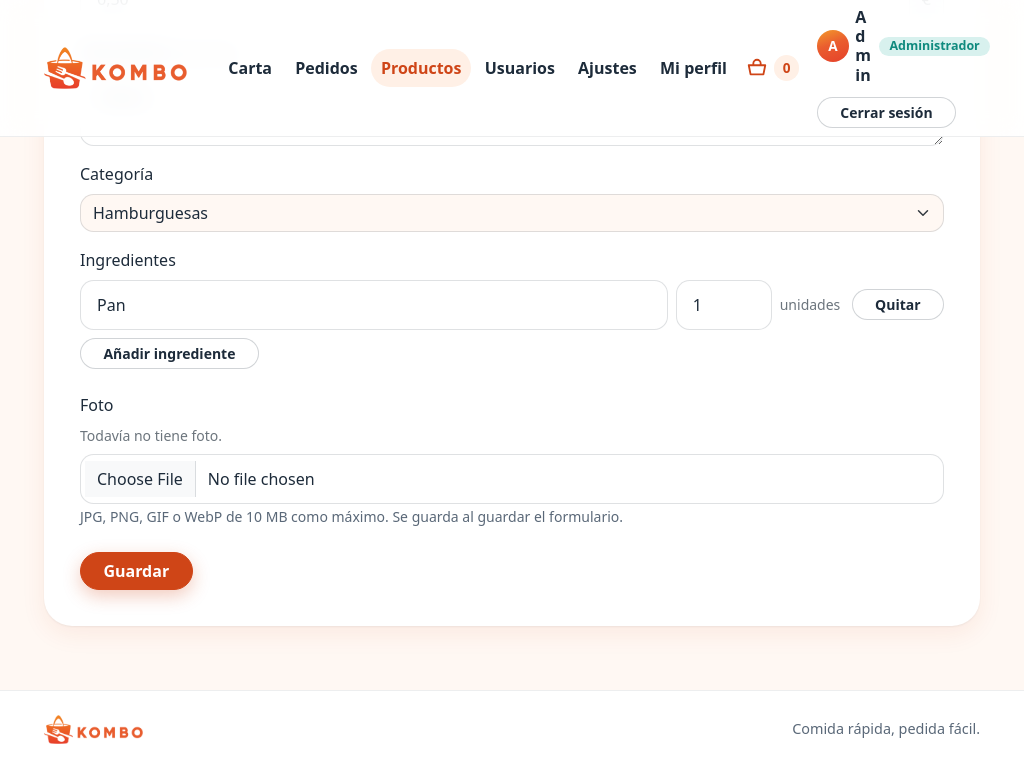
Test: ProductFormPage › shows the error of the server and keeps the form
The width and height of the screenshot is (1024, 764).
(page scrolled)
Click the button "Guardar" at (136, 571), box [80, 552, 192, 590]
(page scrolled)
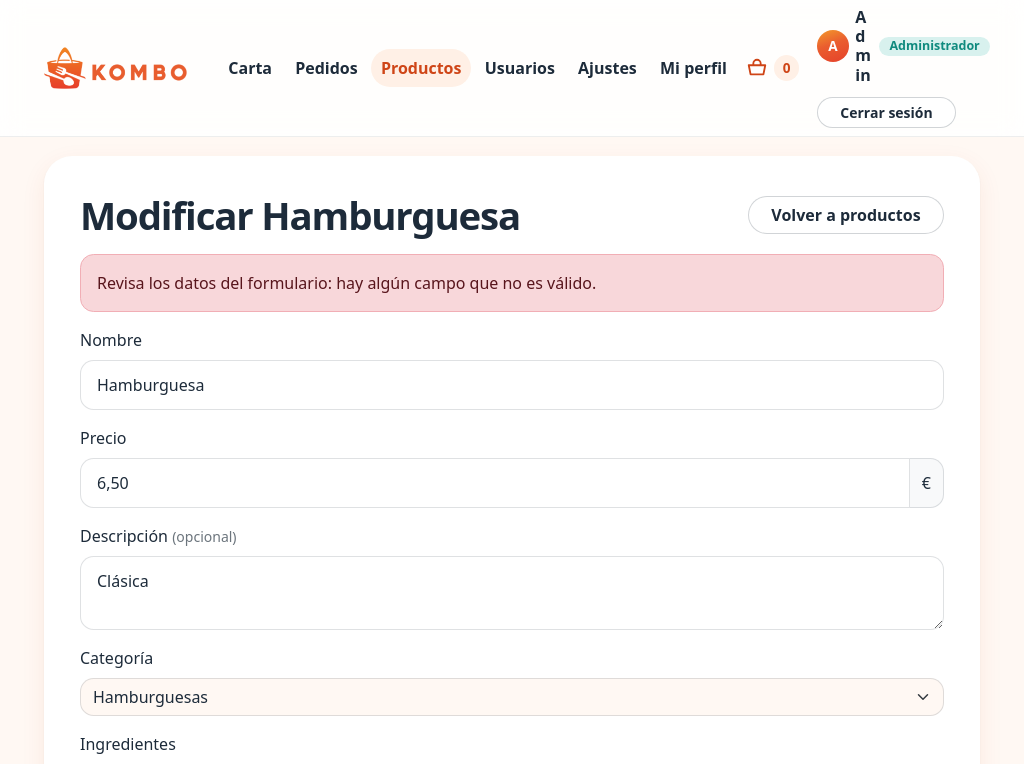
expect the field labelled "Nombre" holds "Hamburguesa": met, box [80, 360, 944, 410]
expect the text "Revisa los datos del formulario: hay algún campo que no es válido." is shown: met, box [80, 254, 944, 312]
